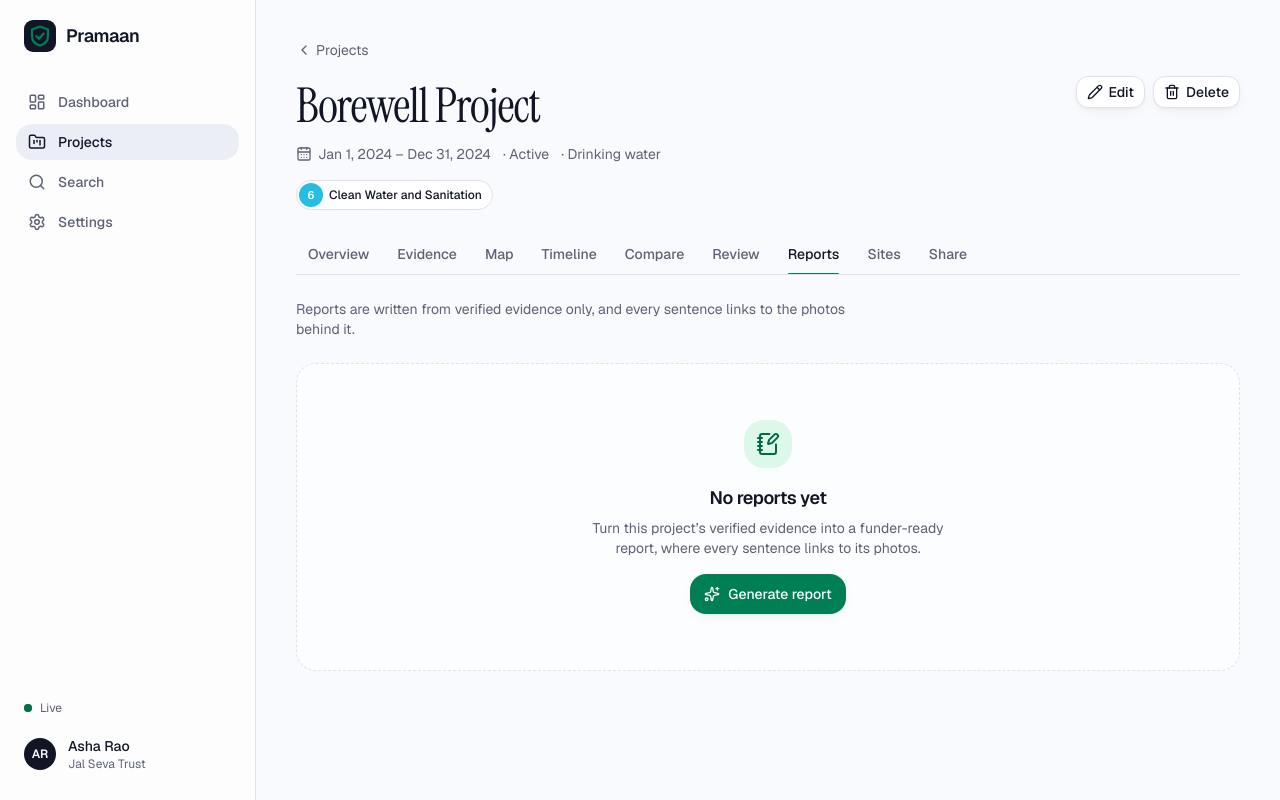
Test: Reports tab › shows why the server refused to generate
The width and height of the screenshot is (1280, 800).
Expected: the heading "No reports yet" is shown, top-left (710, 486), bottom-right (826, 509)
Click the button "Generate report" at point(768, 594), box top-left (690, 574), bottom-right (846, 614)
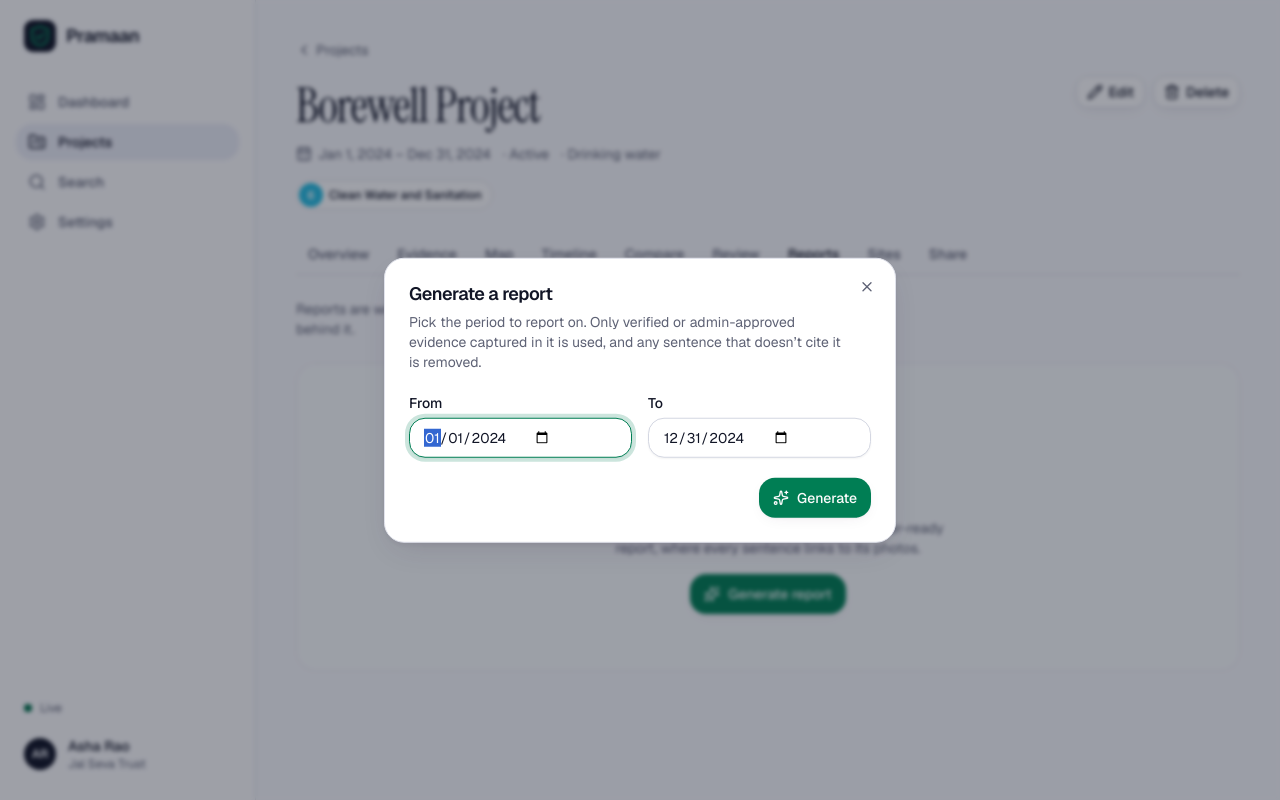
Click the button "Generate" at point(815, 497), box top-left (759, 477), bottom-right (871, 517)
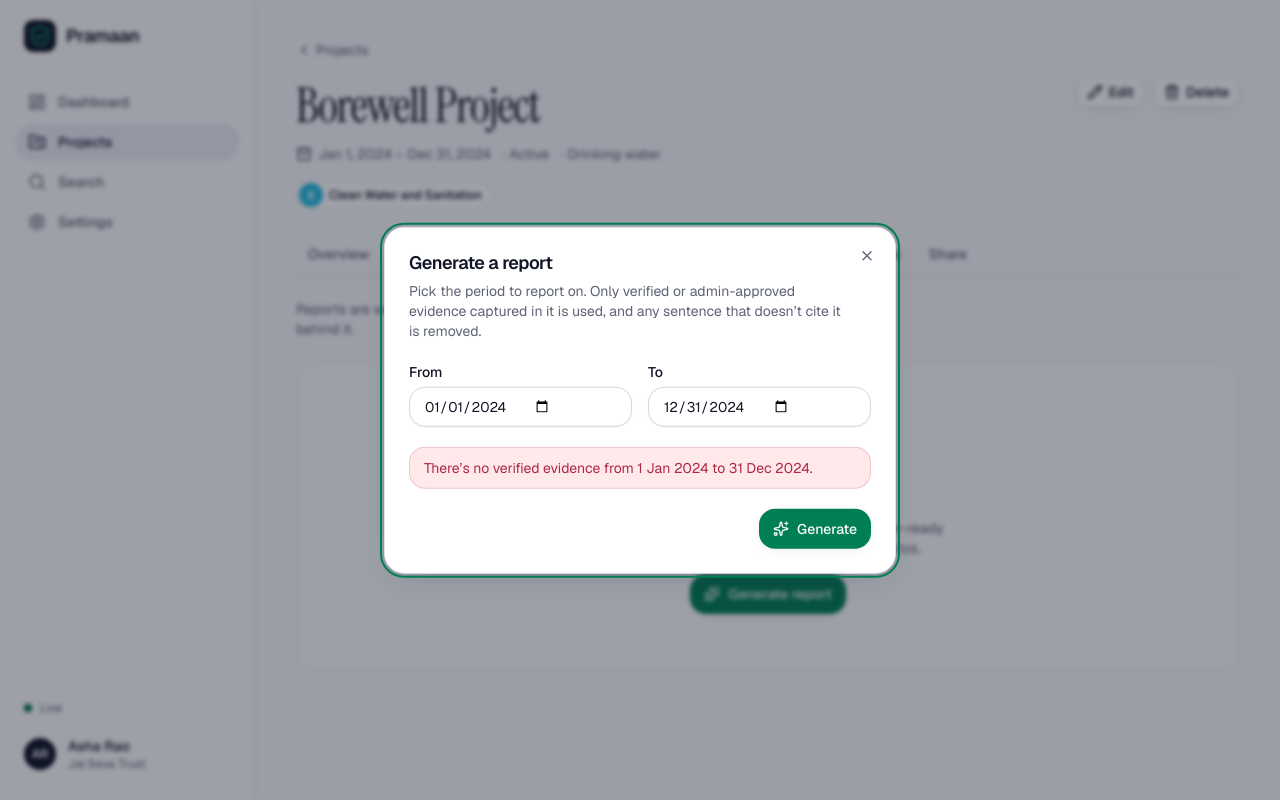
Now the text "There’s no verified evidence from 1 Jan 2024 to 31 Dec 2024." is shown, box top-left (409, 446), bottom-right (871, 488)
